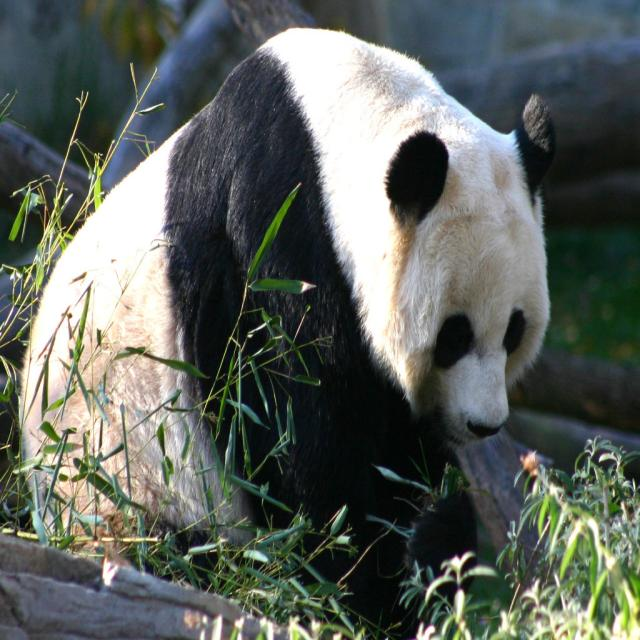panda: (15, 21, 555, 640)
